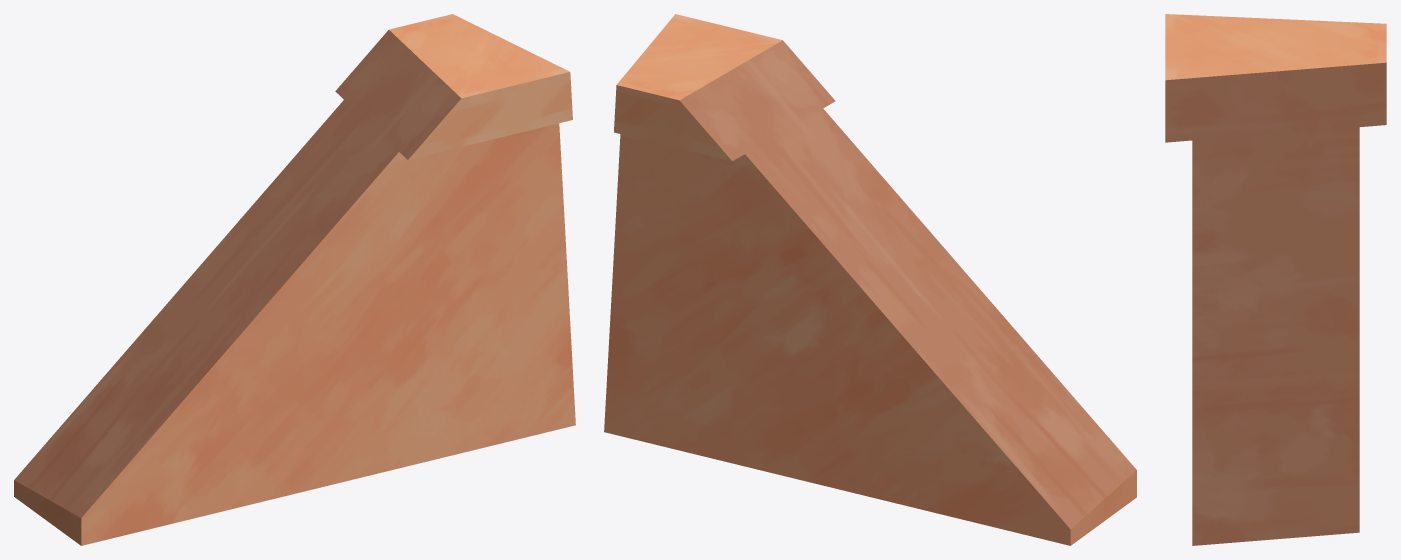
File: parapet_plain_s04.fbx
The picture shows the model from 3 angles, left to right: view 1: azimuth 30°, elevation 25°; view 2: azimuth 150°, elevation 25°; view 3: azimuth 270°, elevation 25°; orthographic projection. The views are drawn at different scales.
Visible parts, largest first — view 1: parapet_plain_s04; view 2: parapet_plain_s04; view 3: parapet_plain_s04.
Boxes of the visible parts, <box> form: parapet_plain_s04: <box>14,14,575,545</box>; parapet_plain_s04: <box>604,14,1136,545</box>; parapet_plain_s04: <box>1165,14,1386,545</box>.
Size of the model in its own units: 4.25 by 3 by 1.32.
